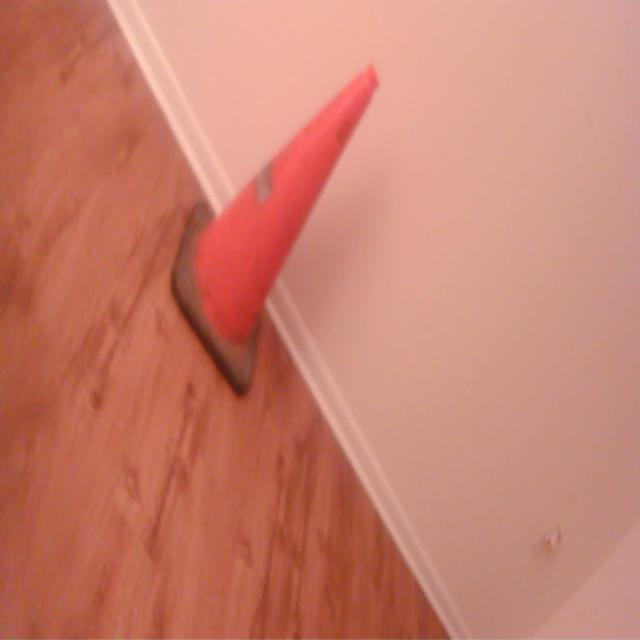traffic cone: (171, 61, 386, 404)
